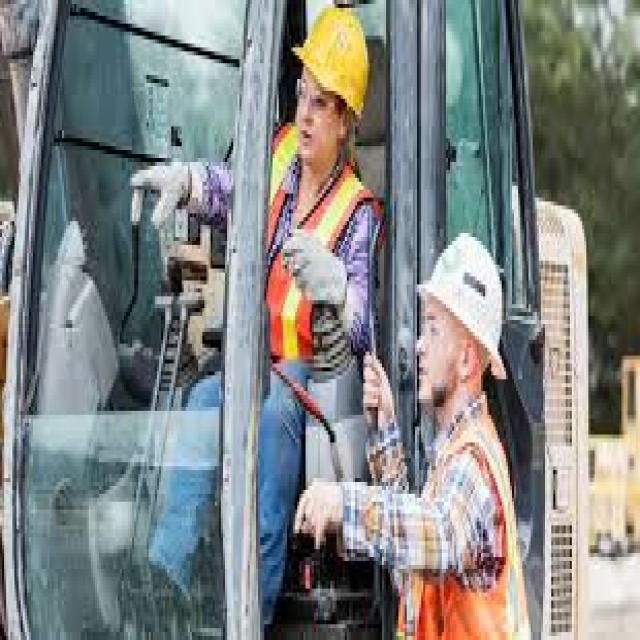gloved: (126, 150, 196, 230), (281, 225, 347, 308), (291, 474, 343, 549), (359, 338, 396, 434)
